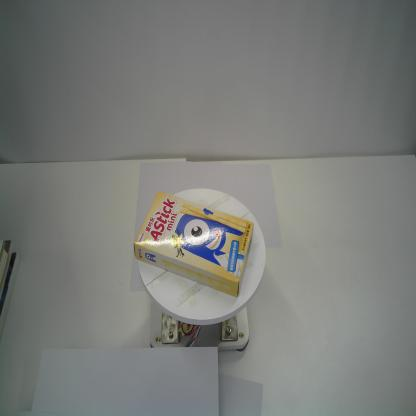Dessert: (133, 187, 255, 299)
